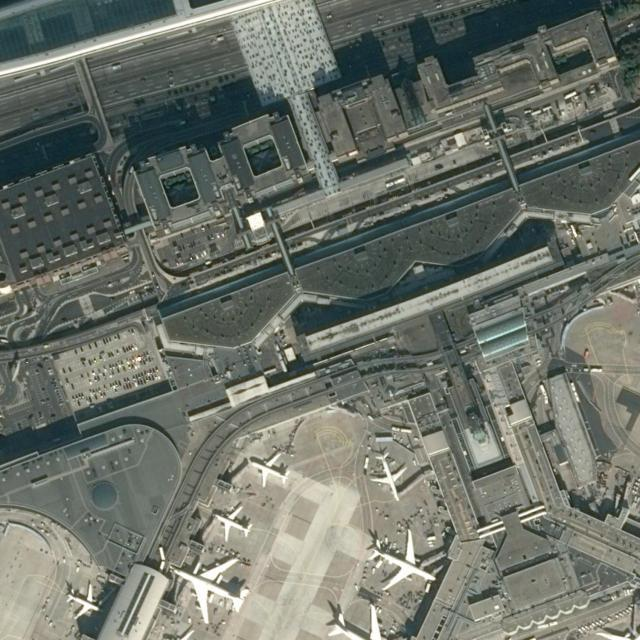Aircraft: (169, 555, 250, 624), (171, 555, 249, 623), (368, 522, 436, 591), (367, 529, 437, 590), (324, 597, 401, 640), (326, 603, 400, 639), (368, 450, 407, 501), (370, 449, 407, 501), (210, 503, 252, 542), (248, 449, 290, 487), (62, 581, 104, 619), (211, 504, 253, 541), (248, 450, 290, 487), (64, 583, 102, 620), (591, 621, 640, 640), (592, 621, 640, 640), (160, 628, 205, 640), (162, 628, 204, 640)
